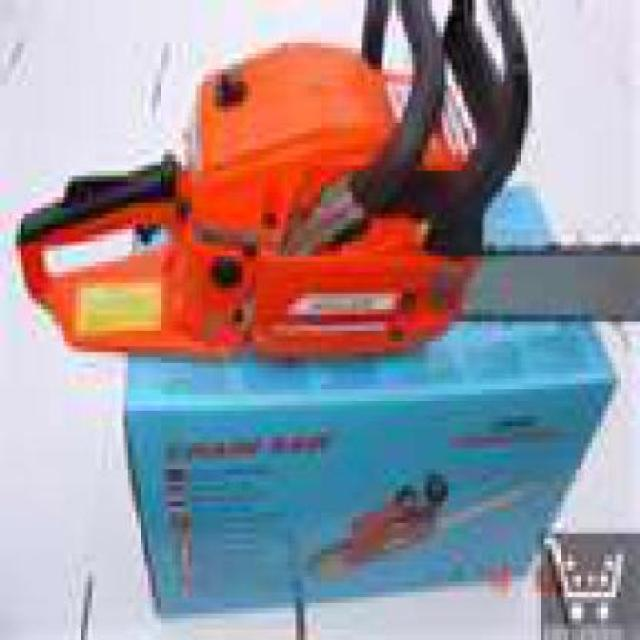Chainsaw: (9, 0, 638, 391)
